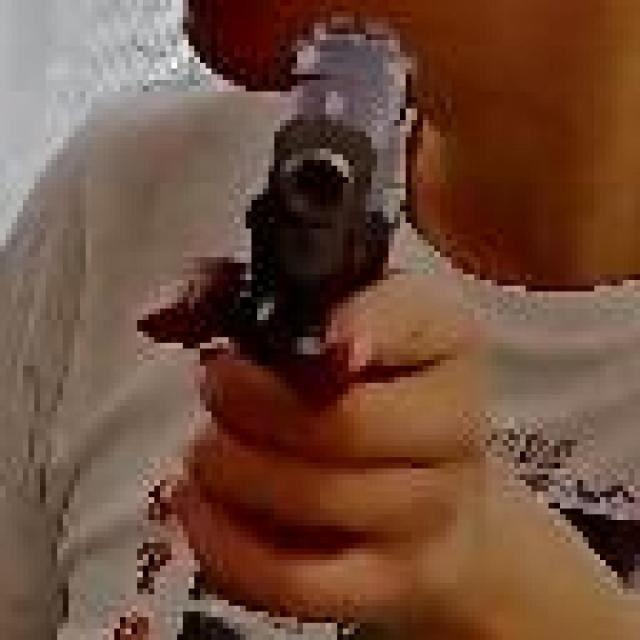pistol: (225, 5, 465, 382)
